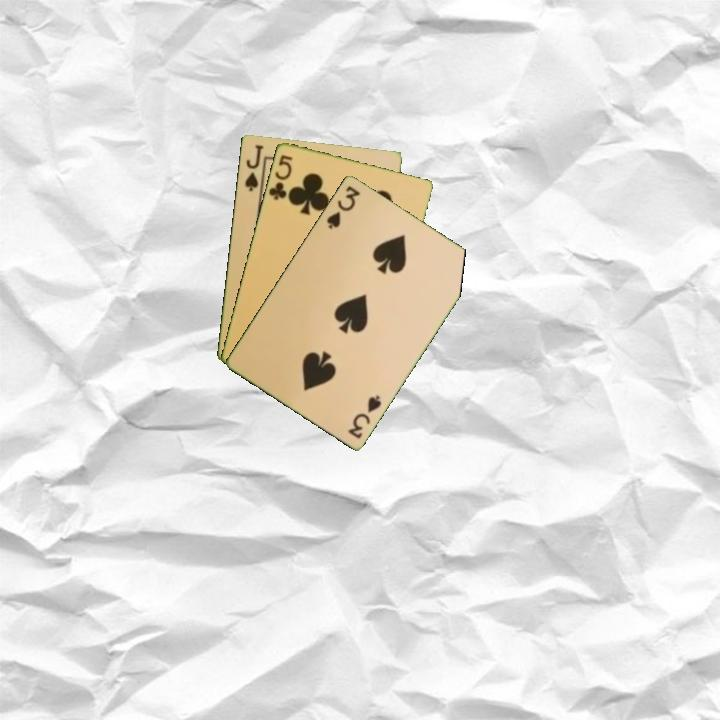3s: (323, 182, 363, 232), (344, 391, 384, 441)
5c: (265, 151, 295, 203)
Js: (241, 141, 266, 194)
